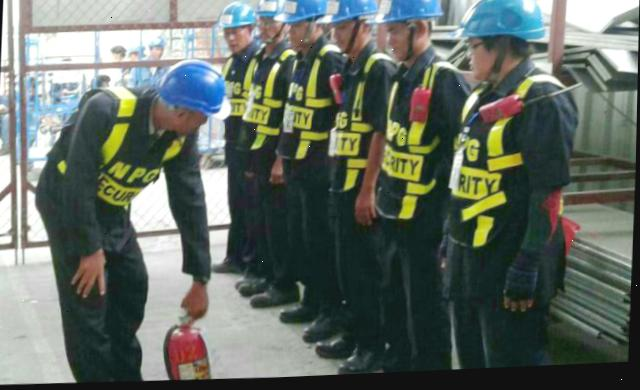helmet: (461, 0, 548, 47), (162, 62, 227, 121), (371, 0, 444, 27), (322, 0, 375, 23), (221, 4, 256, 33), (282, 0, 326, 19), (253, 0, 286, 20)
vest: (450, 75, 561, 255), (376, 61, 450, 221), (328, 54, 399, 190), (79, 86, 154, 209), (291, 51, 332, 151), (252, 50, 285, 145), (217, 51, 253, 119)
